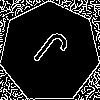J: (25, 27, 72, 79)
